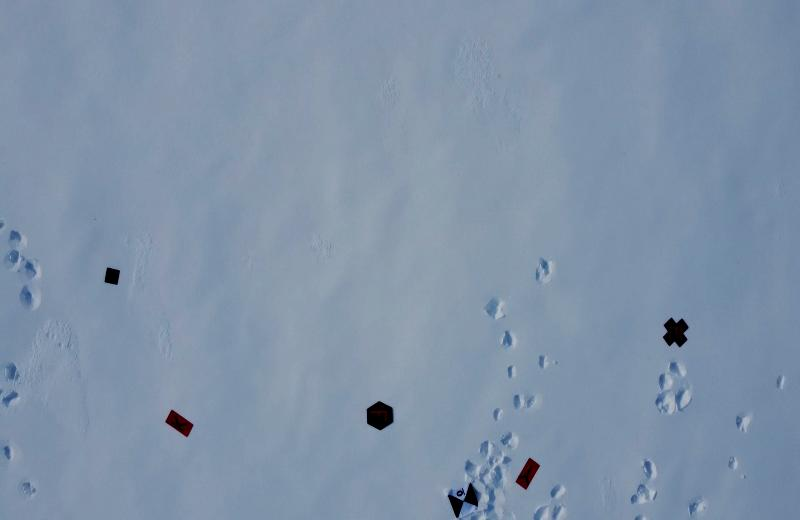Cross: (662, 314, 691, 349)
Hexagon: (367, 400, 394, 432)
Rectangle: (163, 408, 194, 439), (516, 453, 541, 491)
Square: (103, 267, 122, 289)
